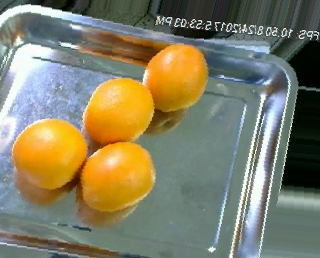Orange: (12, 117, 87, 189), (81, 141, 155, 212), (82, 77, 153, 145), (142, 42, 208, 111)
